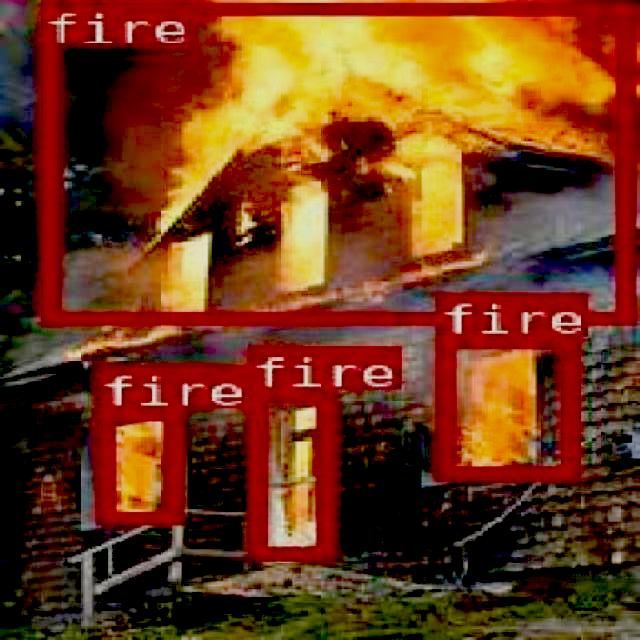fire: (39, 1, 628, 322), (434, 334, 576, 478), (248, 388, 330, 556), (95, 406, 179, 522)
